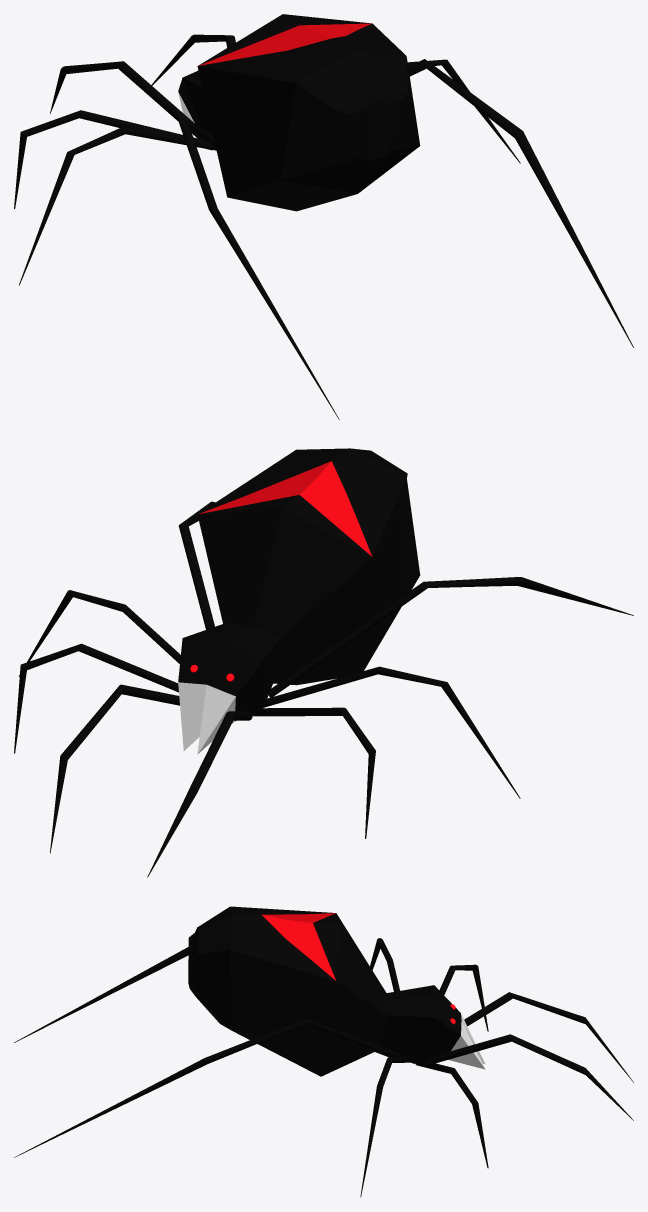
3 renders of one model, top to bottom at view 1: azimuth 30°, elevation 25°; view 2: azimuth 150°, elevation 25°; view 3: azimuth 270°, elevation 25°, orthographic. The views are drawn at different scales.
Visible parts, largest first — view 1: 身体, 腿4, 腿3, 腿1, 腿2; view 2: 身体, 腿4, 腿3, 腿1, 腿2; view 3: 身体, 腿4, 腿1, 腿2, 腿3.
Part boxes in pixels (x1,y1,x2,y2): 身体: (178, 14, 420, 211); 腿4: (178, 59, 633, 419); 腿3: (19, 59, 520, 285); 腿1: (50, 34, 235, 139); 腿2: (14, 110, 212, 208); 身体: (178, 448, 420, 754); 腿4: (178, 501, 633, 697); 腿3: (19, 590, 520, 798); 腿1: (50, 684, 252, 877); 腿2: (14, 643, 375, 838); 身体: (188, 906, 485, 1076); 腿4: (14, 947, 400, 1157); 腿1: (427, 992, 633, 1120); 腿2: (415, 964, 488, 1168); 腿3: (360, 938, 411, 1197).
Bounding box in the file's own units: 433 × 193 × 580.
